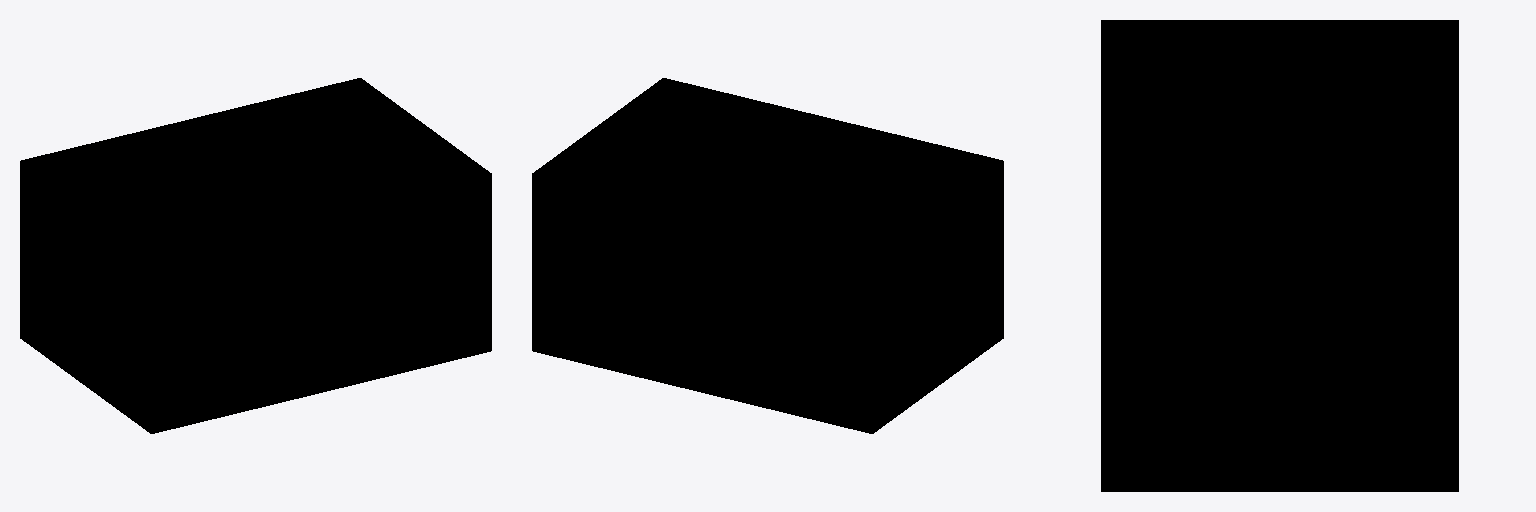
URDF robot description (cuboid.urdf):
<robot name="cuboid.urdf">
  <link name="base_link"/>

  <link name="block">
    <contact>
      <lateral_friction value="1.0"/>
      <rolling_friction value="0.0"/>
      <contact_cfm value="0.0"/>
      <contact_erp value="1.0"/>
    </contact>
    <inertial>
      <origin rpy="0 0 0" xyz="0 0 0."/>
       <mass value="1.0"/>
       <inertia ixx="1" ixy="0" ixz="0" iyy="1" iyz="0" izz="1"/>
    </inertial>
    <visual>
      <origin rpy="0 0 0" xyz="0 0 0."/>
      <geometry>
				<box size="0.6 0.4 0.3"/>
      </geometry>
       <material name="black">
        <color rgba="0 0 0 1"/>
      </material>
    </visual>
    <collision>
      <origin rpy="0 0 0" xyz="0 0 0"/>
      <geometry>
    	 	<box size="0.6 0.4 0.3"/>
      </geometry>
    </collision>
  </link>

  <joint name="joint" type="fixed">
    <parent link="base_link"/>
    <child link="block"/>
  </joint>
</robot>

--- Facts derived from the render (not from the file) ---
Views: 3 orthographic renders of the robot side by side, from view 1: azimuth 30°, elevation 25°; view 2: azimuth 150°, elevation 25°; view 3: azimuth 270°, elevation 25°.
Model cuboid.urdf with 2 links and 1 joints (1 fixed), rooted at base_link, posed all joints at 0.
Visible links, largest first — view 1: block; view 2: block; view 3: block.
Link boxes in pixels (left/top/right/bottom): block: left=20, top=78, right=491, bottom=433; block: left=532, top=78, right=1003, bottom=433; block: left=1101, top=20, right=1458, bottom=491.
Size in the robot's own frame: 0.6 by 0.4 by 0.3 metres.
Geometry: primitives only (box / cylinder / sphere), no mesh files.
